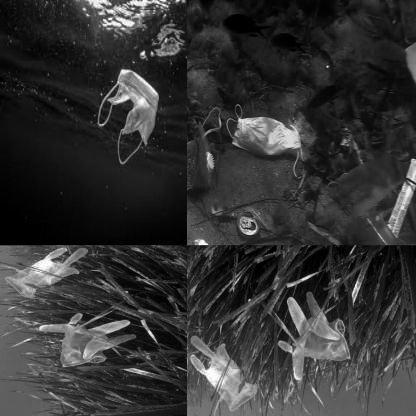Mask: (98, 52, 160, 169), (226, 102, 308, 182)
glove: (277, 291, 352, 385), (33, 311, 139, 369), (187, 332, 261, 415), (5, 248, 91, 300)
